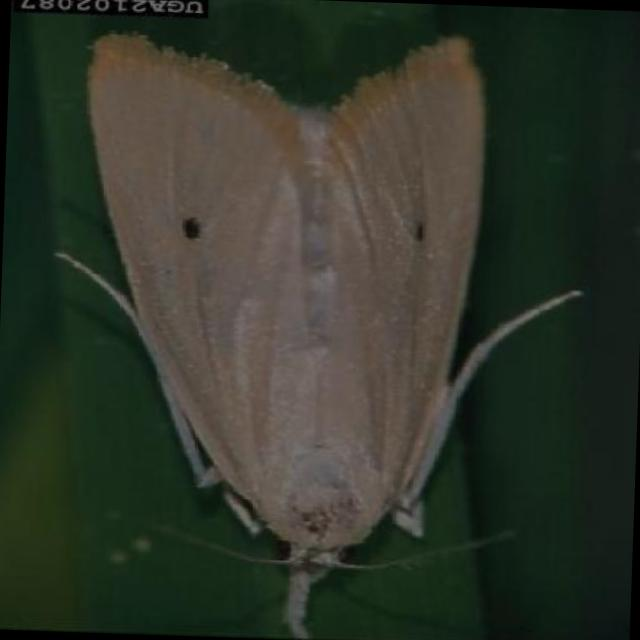stem-borer: (35, 16, 601, 640)
